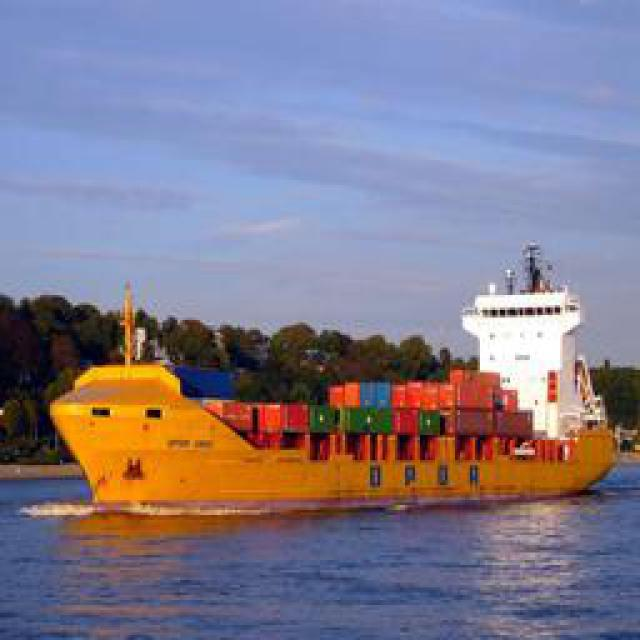Ship: (36, 328, 626, 516)
